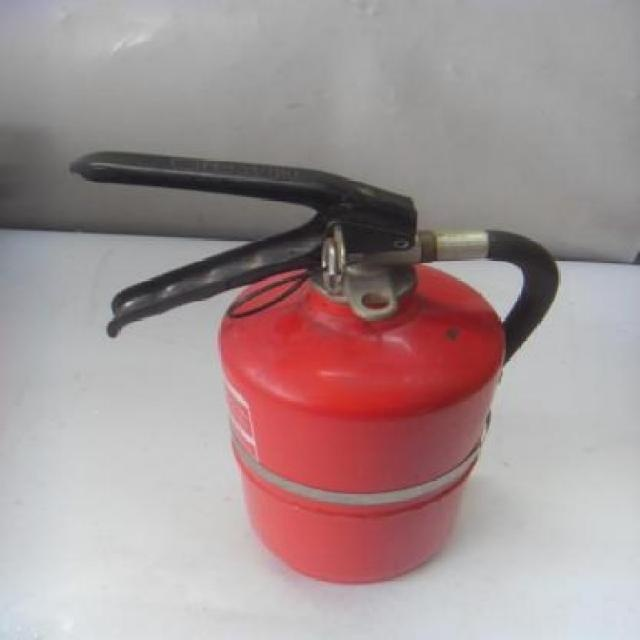fire extinguisher: (69, 151, 560, 586)
